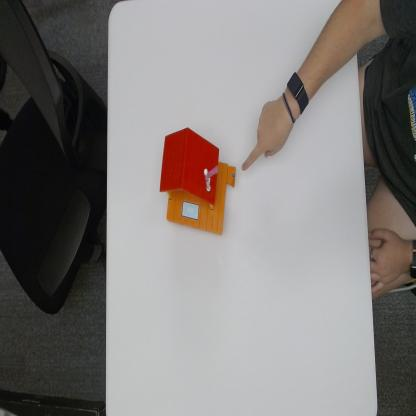Arm: (305, 1, 386, 83)
Hand: (246, 92, 296, 170)
House: (160, 127, 235, 236)
